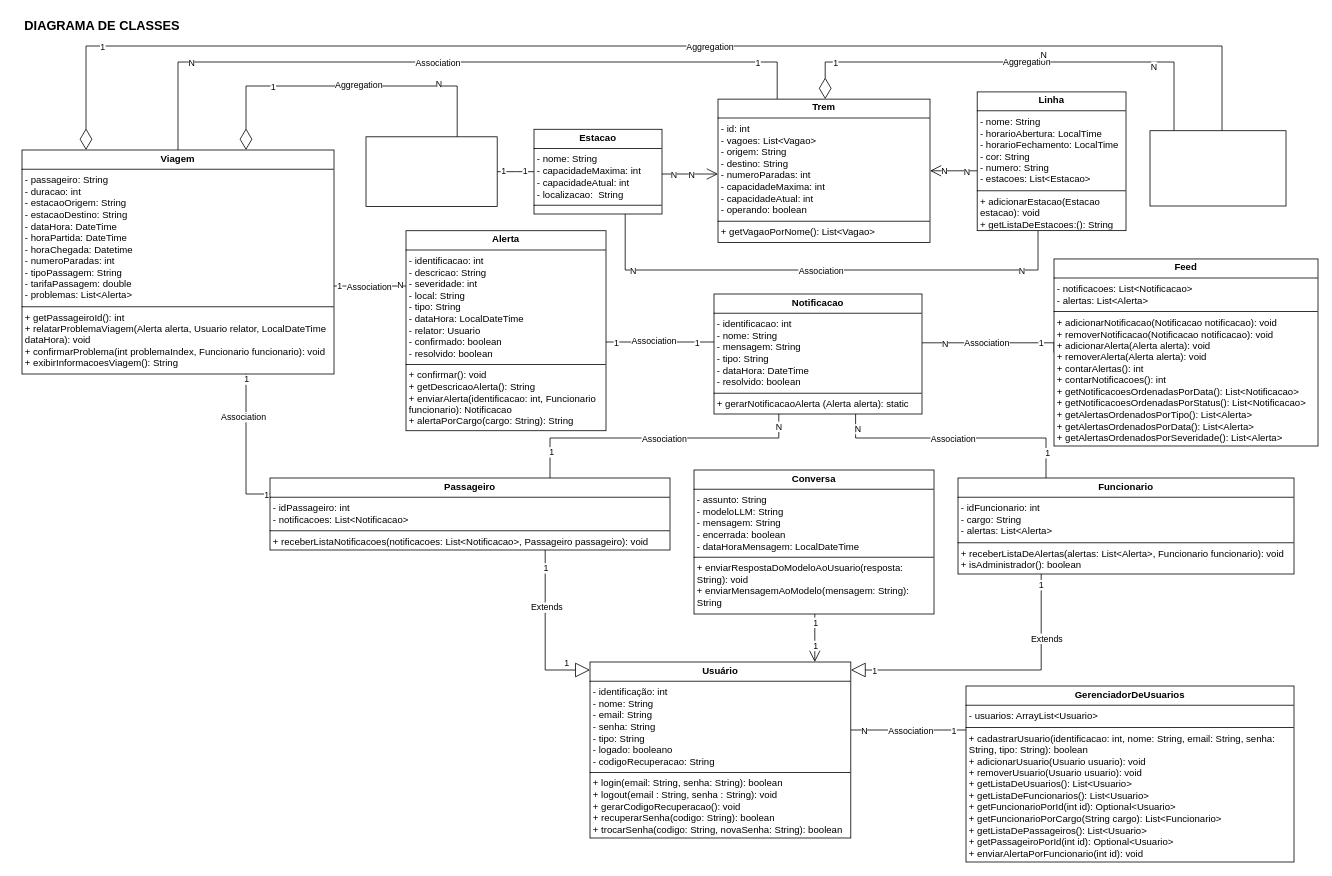
Some shapes in this 1332 by 876 pixel diagram are drawn without their labels. Here are the shapes that lost their labels. From the top down, the centre of each, then its label:
At pixel 431 171: "Parada - plataforma: String - nomeEstacao: String - nomeLinha: String".
At pixel 1217 168: "Vagao - nome: String - capacidadeMaxima: int - capacidadeAtual: int".
